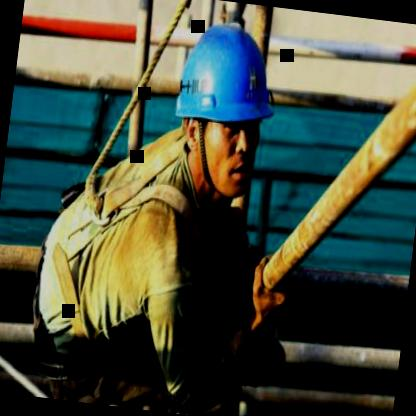helmet: (150, 0, 298, 227)
